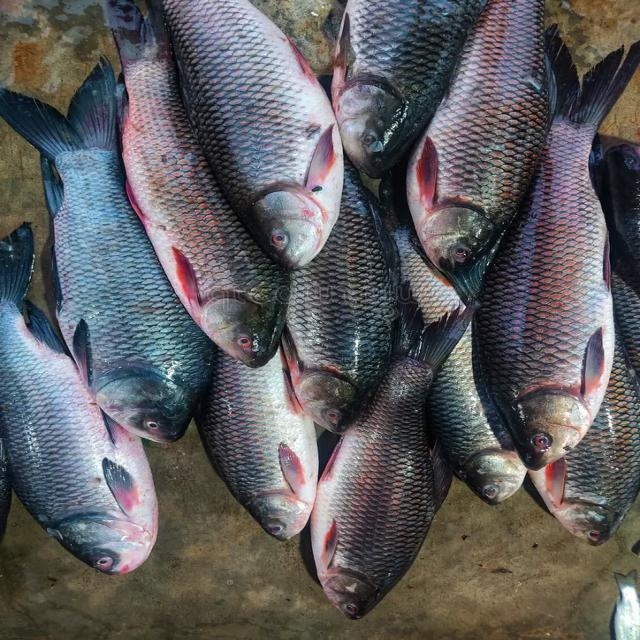Rohu: (0, 52, 213, 446), (473, 27, 640, 471)
